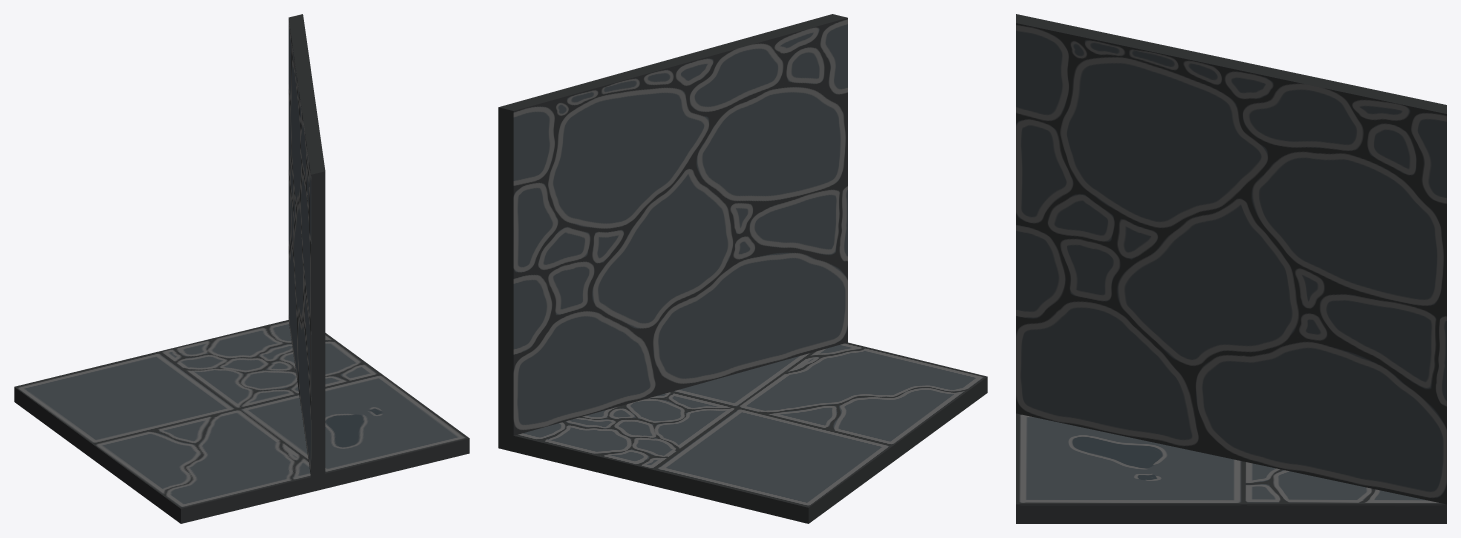
The model's file is Opening-LCURVE-ESE_v1.2.fbx.
The picture shows the model from 3 angles, left to right: view 1: azimuth 30°, elevation 25°; view 2: azimuth 150°, elevation 25°; view 3: azimuth 270°, elevation 25°; orthographic projection. The views are drawn at different scales.
Visible parts, largest first — view 1: Wall-Curved-ESE; view 2: Wall-Curved-ESE; view 3: Wall-Curved-ESE.
Boxes of the visible parts, x1,y1,x2,y2 form: Wall-Curved-ESE: (14, 14, 469, 523); Wall-Curved-ESE: (498, 14, 987, 523); Wall-Curved-ESE: (1016, 14, 1446, 523).
Size of the model in its own units: 100 by 100 by 105.
